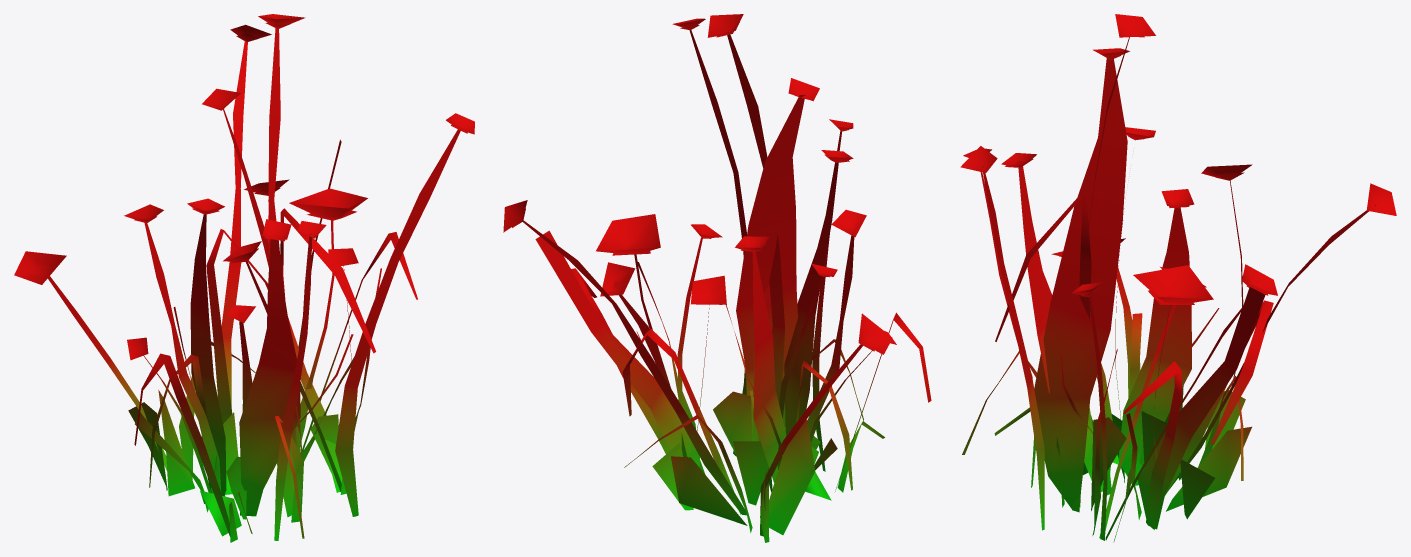
File: White Everlasting_LOD4_Var3_ucvobbbia.fbx
3 renders of one model, left to right at view 1: azimuth 30°, elevation 25°; view 2: azimuth 150°, elevation 25°; view 3: azimuth 270°, elevation 25°, orthographic. The views are drawn at different scales.
Visible parts, largest first — view 1: _2751_Var3_LOD4; view 2: _2751_Var3_LOD4; view 3: _2751_Var3_LOD4.
Part boxes in pixels (x1,y1,x2,y2): _2751_Var3_LOD4: [14, 14, 474, 542]; _2751_Var3_LOD4: [503, 14, 931, 542]; _2751_Var3_LOD4: [960, 14, 1396, 542].
Size of the model in its own units: 46.86 by 61.91 by 48.83.
